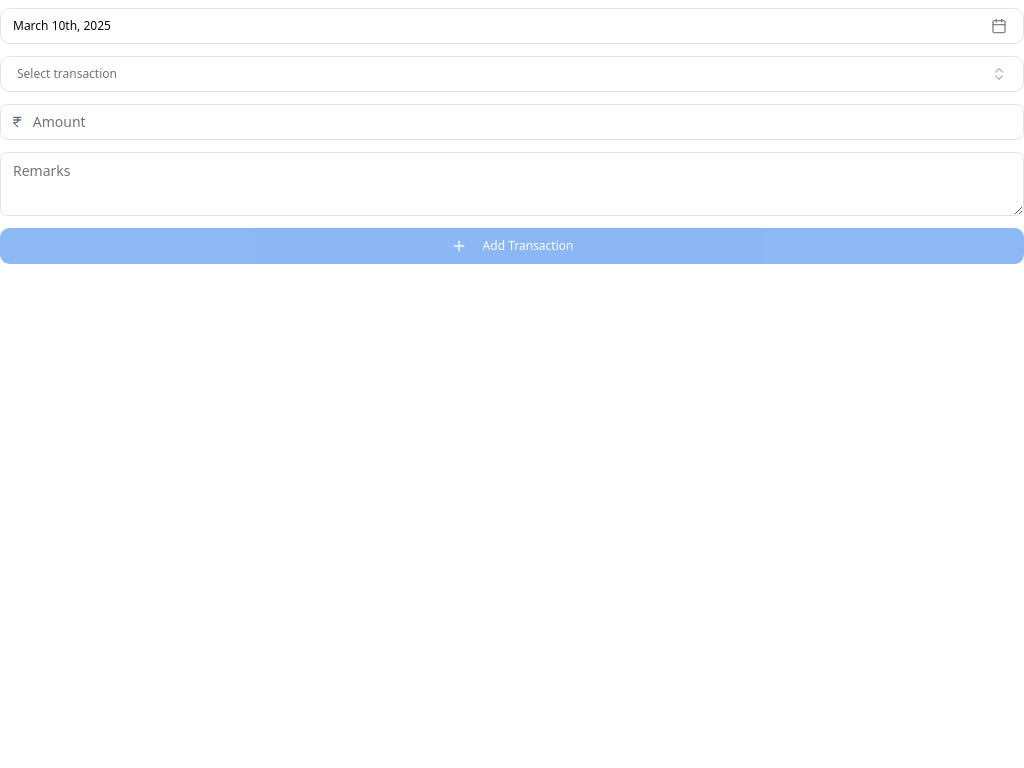
Scenario: AddExpenseForm › opens the calendar when date field is clicked
What coordinates should you click on to do the following:
click the button "March 10th, 2025"
I would click on:
 (62, 26)
Its box is [0,8,1023,44].
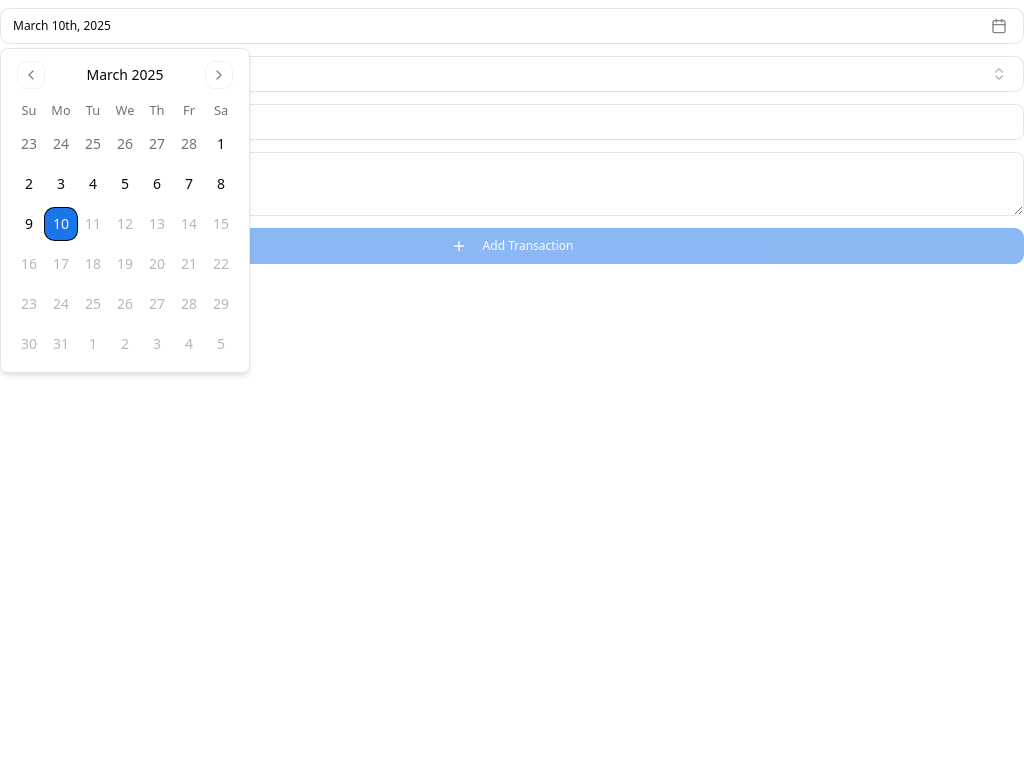
Now the dialog is shown, box [0,48,250,373]
